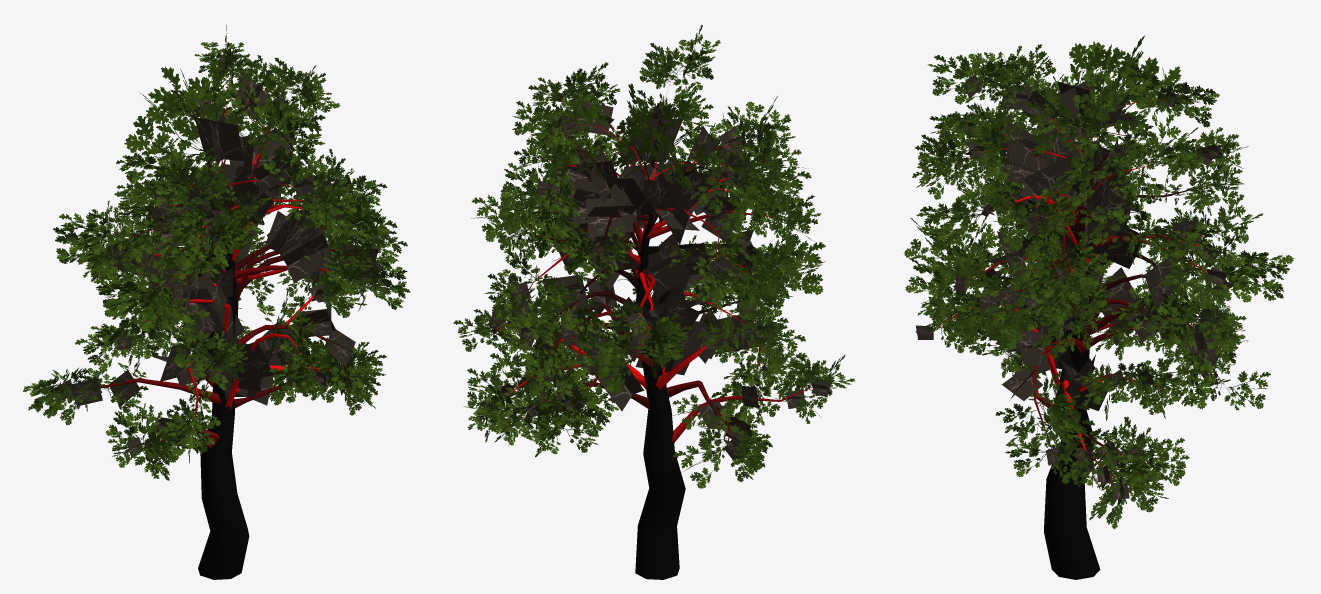
Rendered from maple2 lod0.FBX.
3 renders of one model, left to right at view 1: azimuth 30°, elevation 25°; view 2: azimuth 150°, elevation 25°; view 3: azimuth 270°, elevation 25°, orthographic. The views are drawn at different scales.
Parts seen in each view (by area): view 1: maple2; view 2: maple2; view 3: maple2.
Boxes of the visible parts, x1,y1,x2,y2 form: maple2: [23, 25, 410, 579]; maple2: [453, 25, 855, 579]; maple2: [903, 35, 1294, 579].
Size of the model in its own units: 89077 by 124796 by 85048.
